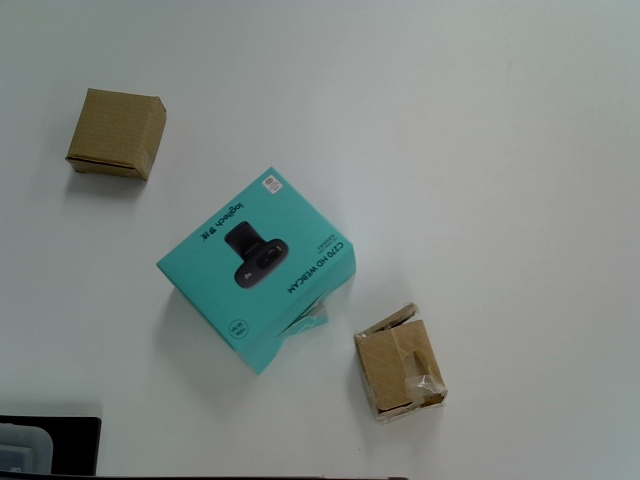defect: (354, 300, 447, 424)
normal: (65, 88, 173, 182)
